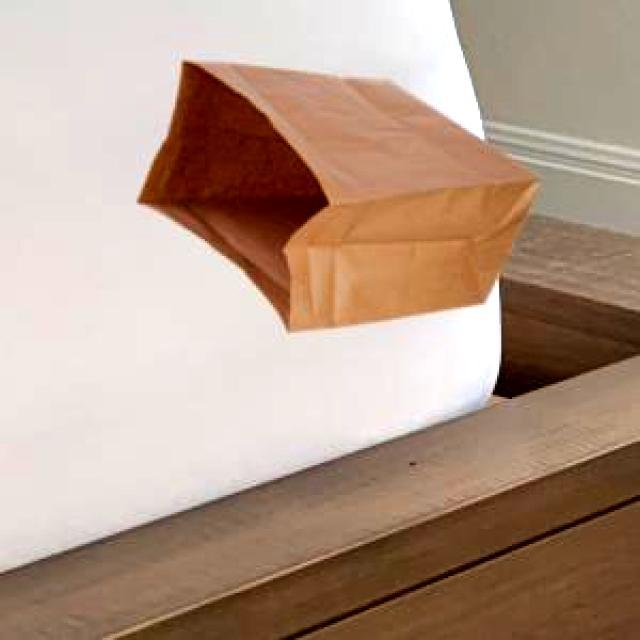Paper_Bag: (136, 58, 536, 330)
